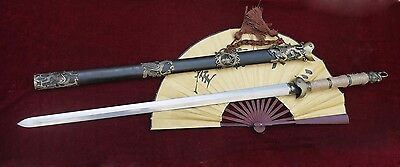knief: (9, 69, 388, 135)
